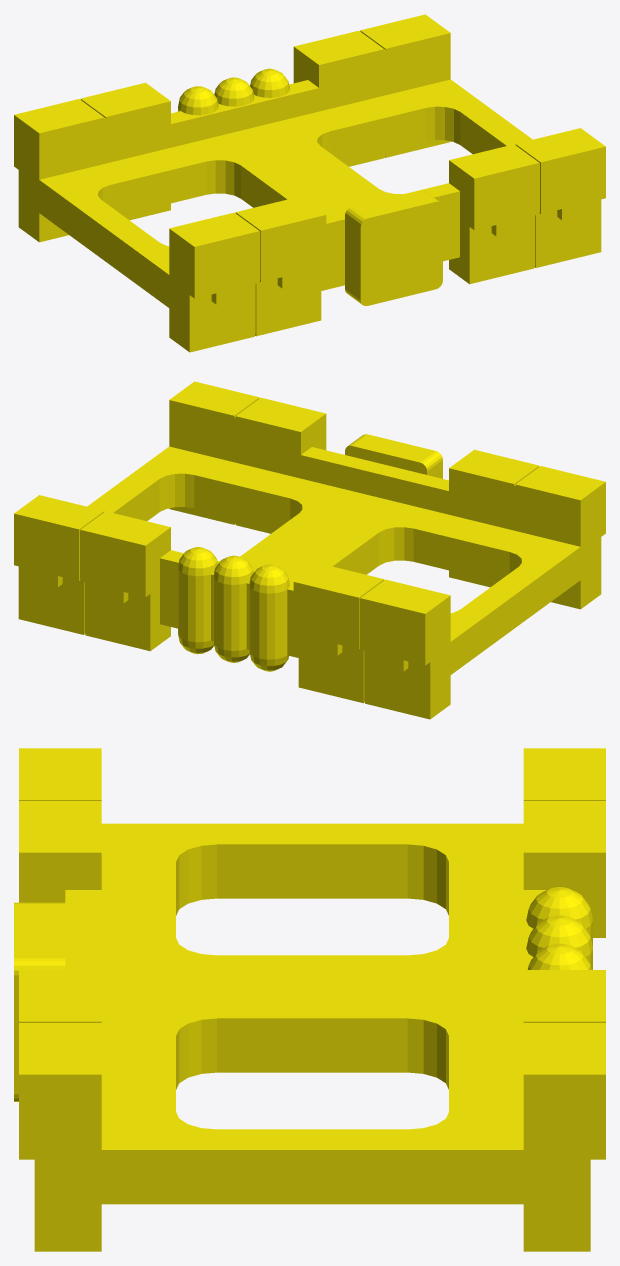
File: BatmanCinturon.obj
The picture shows the model from 3 angles, top to bottom: view 1: azimuth 30°, elevation 25°; view 2: azimuth 150°, elevation 25°; view 3: azimuth 270°, elevation 25°; orthographic projection. The views are drawn at different scales.
Parts seen in each view (by area): view 1: Part_3; view 2: Part_3; view 3: Part_3.
Boxes of the visible parts, left/top/right/bottom form: Part_3: left=14, top=14, right=605, bottom=352; Part_3: left=14, top=381, right=605, bottom=719; Part_3: left=14, top=748, right=605, bottom=1251.
Bounding box in the file's own units: 15 × 3.8 × 11.5.
